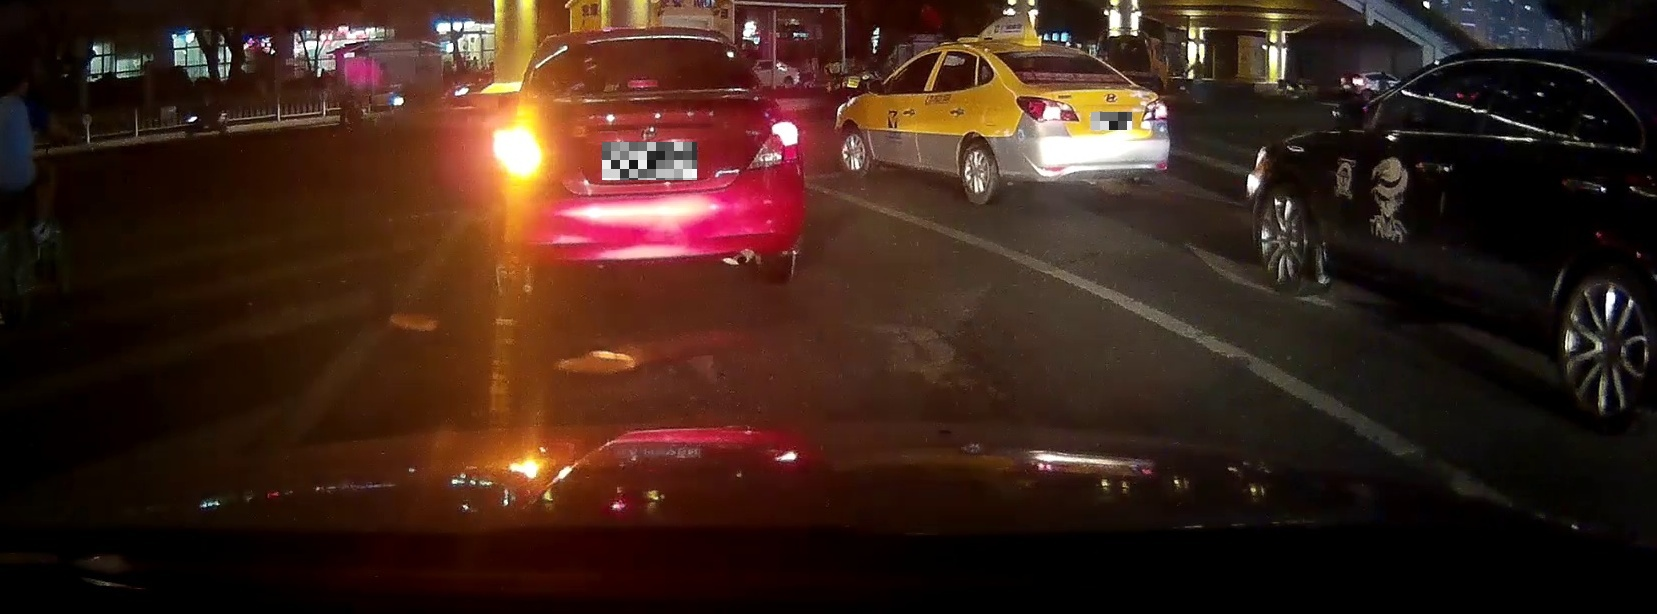L_light: (498, 127, 548, 180), (1016, 95, 1080, 123)
R_light: (747, 120, 798, 168), (1142, 97, 1169, 120)
T_light: (623, 78, 660, 90), (1043, 52, 1064, 58)
night-left: (494, 25, 808, 295)
night-no: (986, 37, 1172, 207)
plate_1: (602, 142, 697, 180)
plate_2: (1091, 112, 1132, 130)
